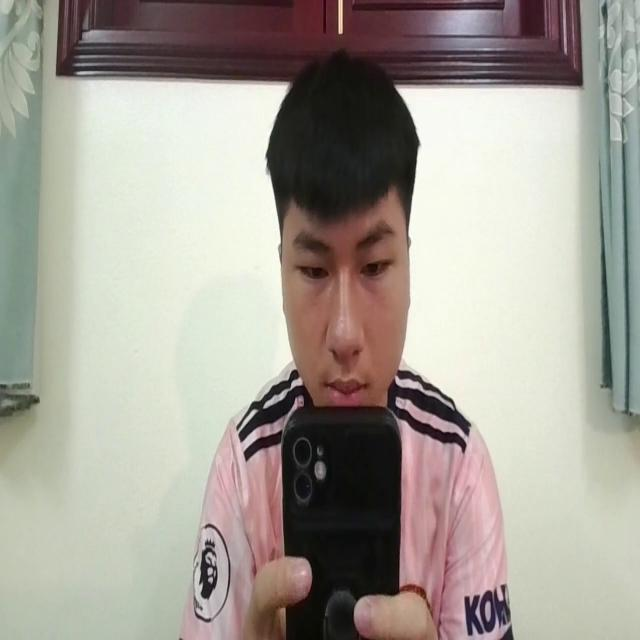phone: (281, 402, 405, 640)
student: (181, 48, 513, 640)
